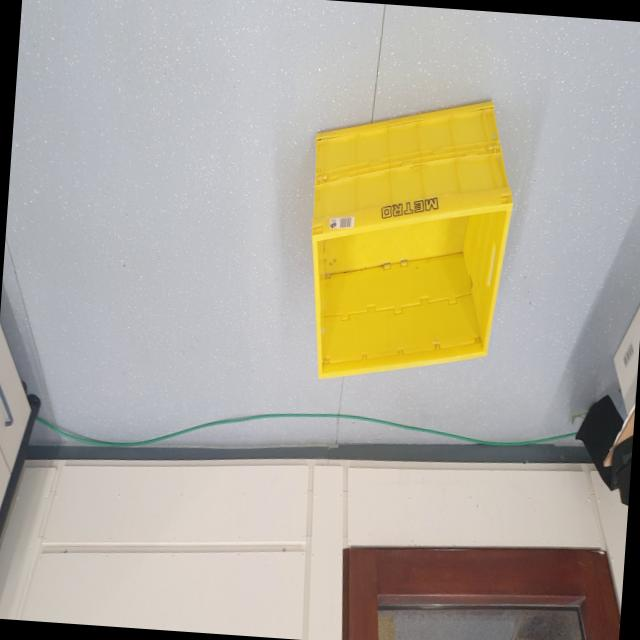box: (292, 82, 524, 403)
